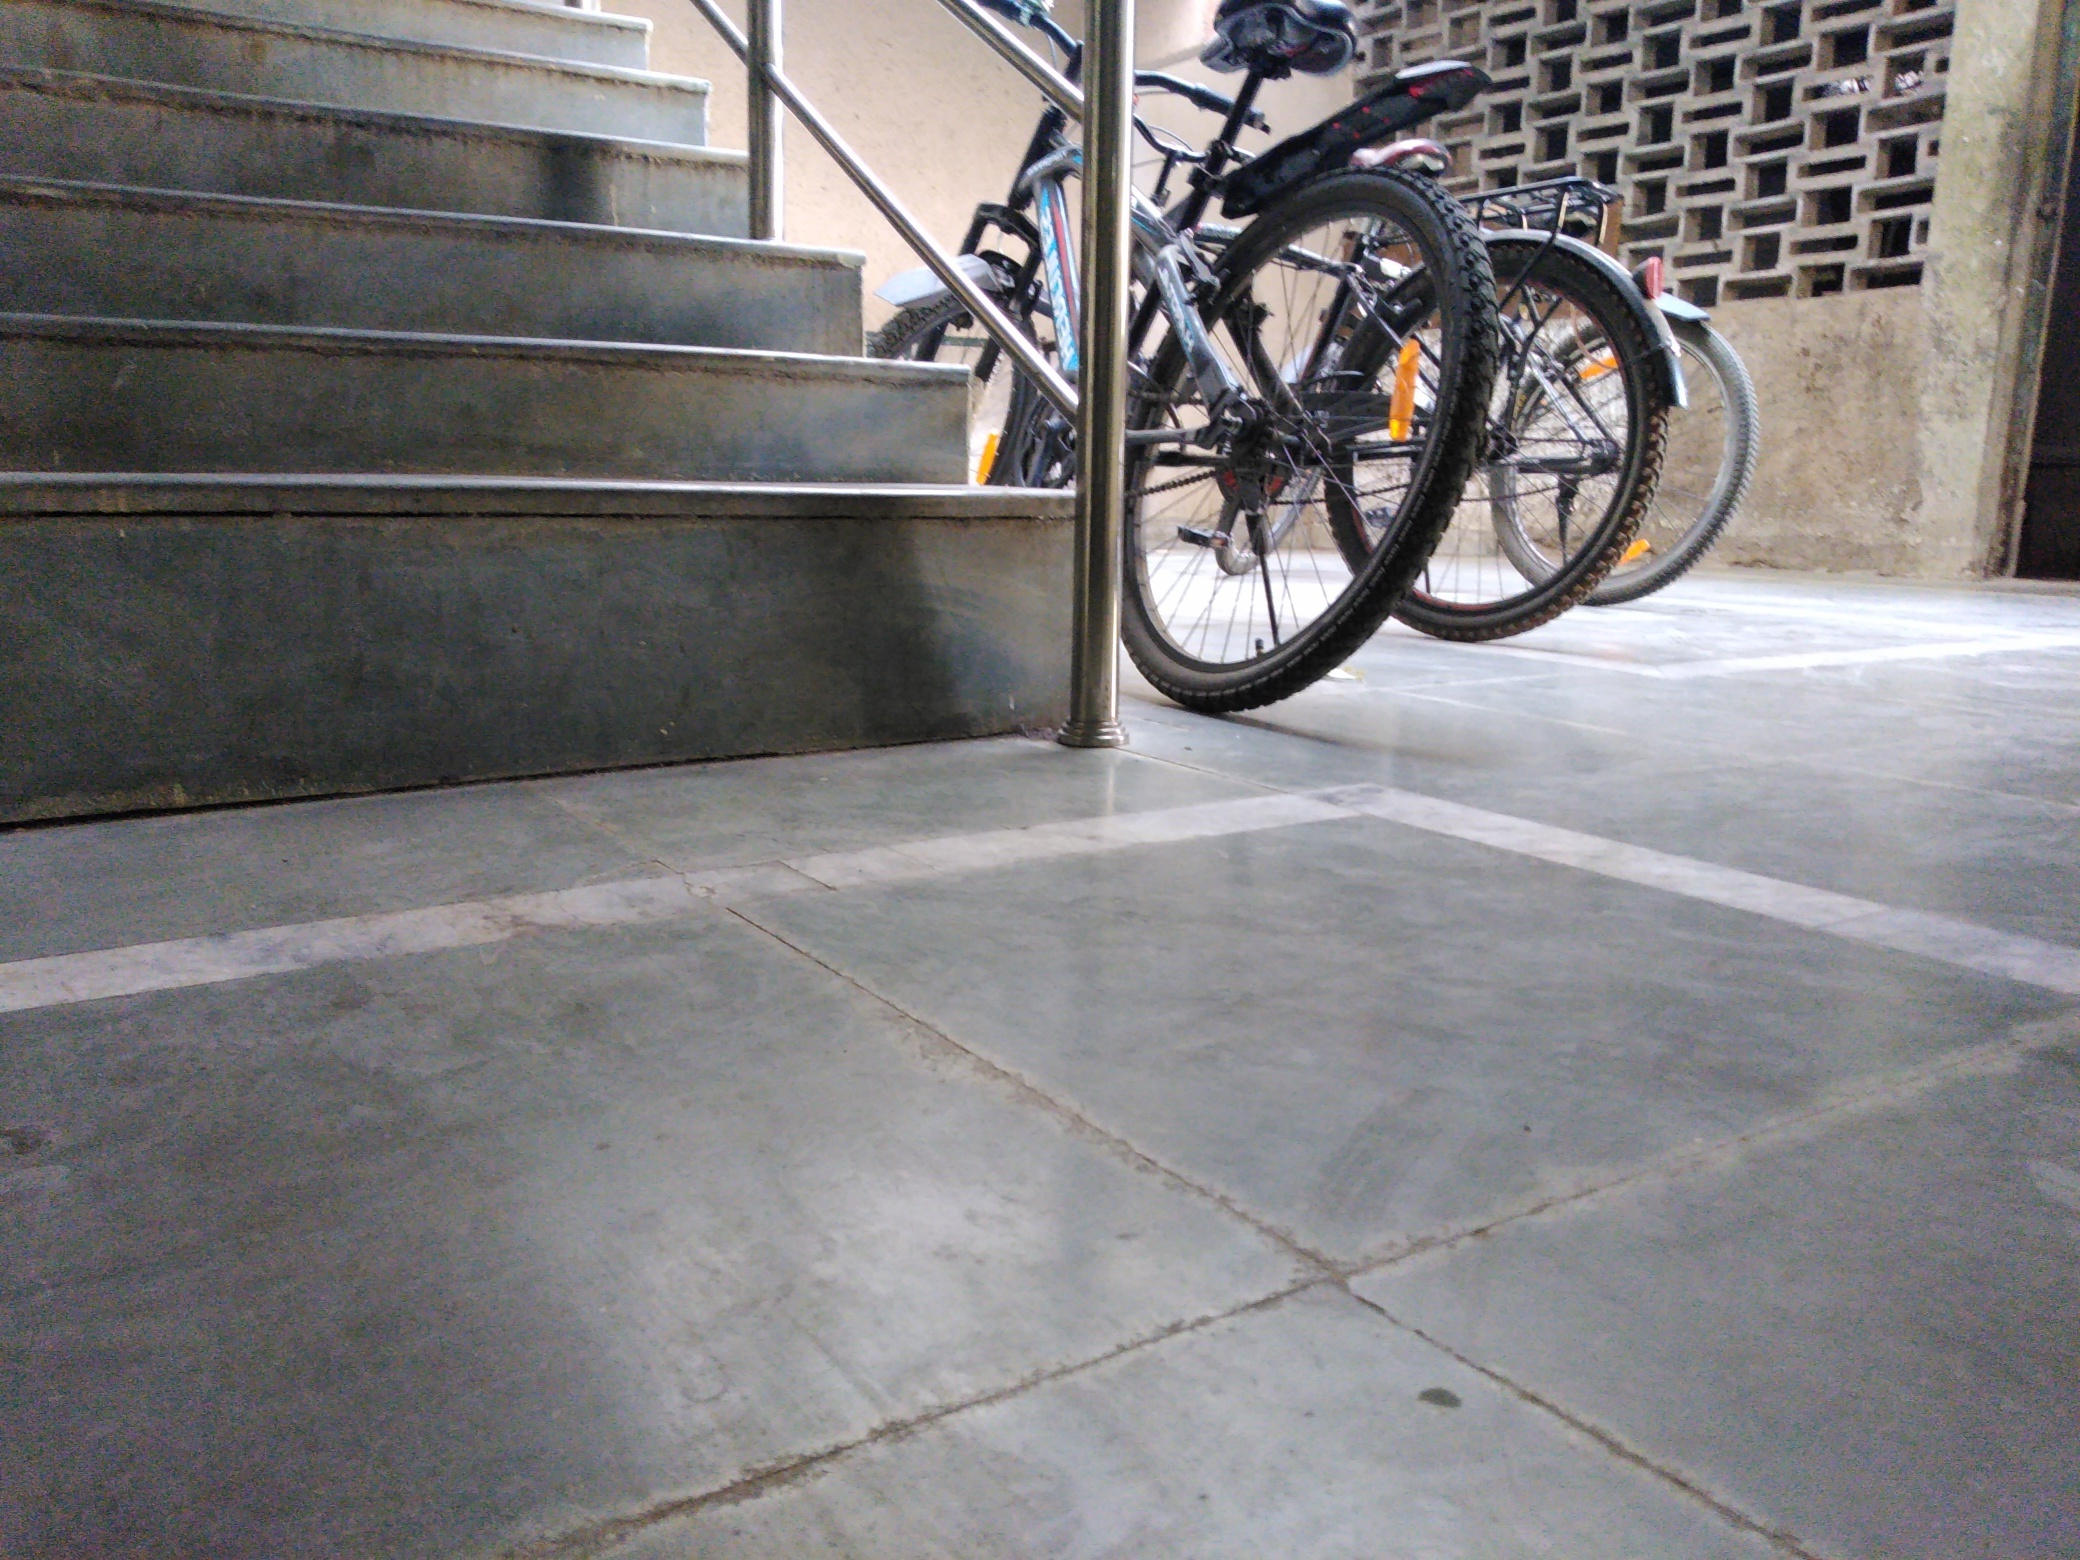stairs_up: (3, 16, 1104, 782)
